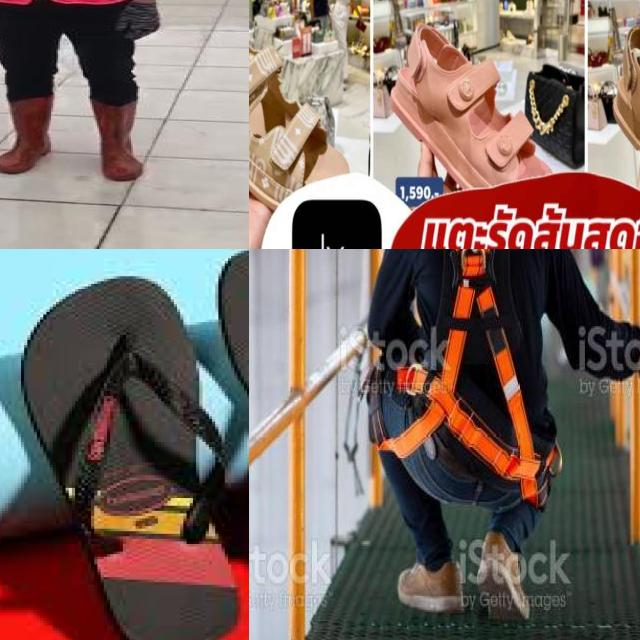Harness: (381, 249, 557, 506)
Sandals: (0, 249, 249, 640)
boots: (86, 99, 144, 182), (0, 97, 56, 174)
hand_glove: (119, 3, 161, 46)
person: (0, 0, 171, 184)
